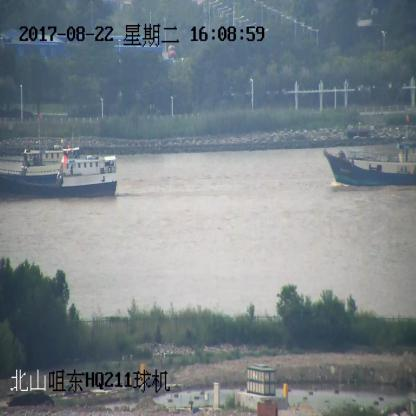Fishing Boat: (325, 116, 415, 186), (1, 111, 82, 179), (0, 154, 118, 200)
